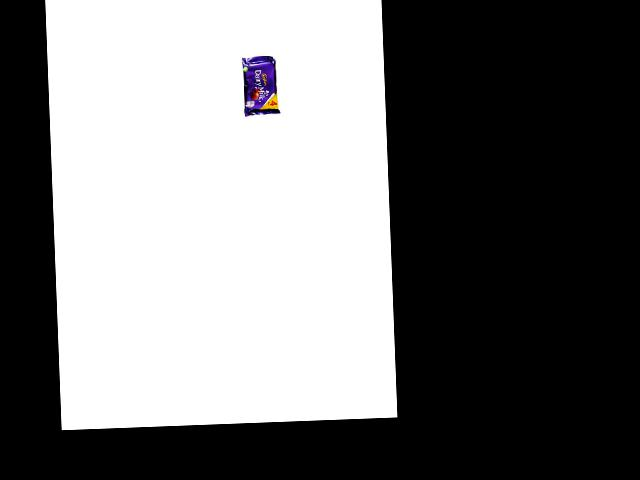chocolate: (237, 53, 280, 123)
